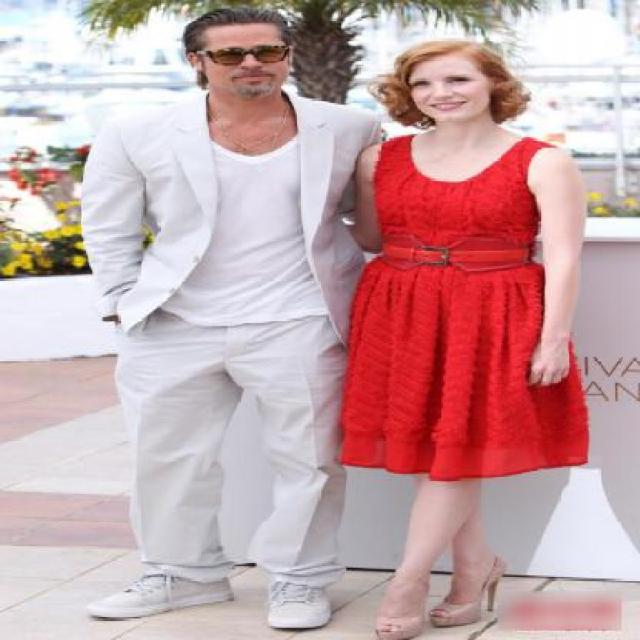Person: (312, 34, 597, 638), (97, 7, 365, 638)
